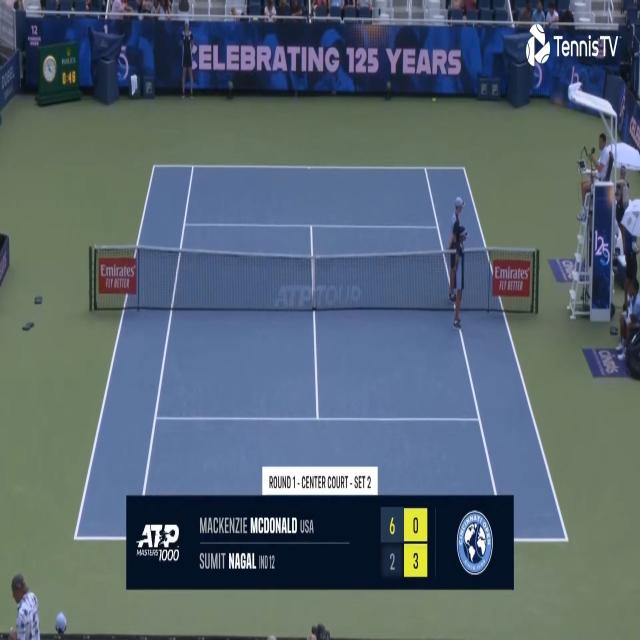tennis-player: (1, 568, 42, 639)
